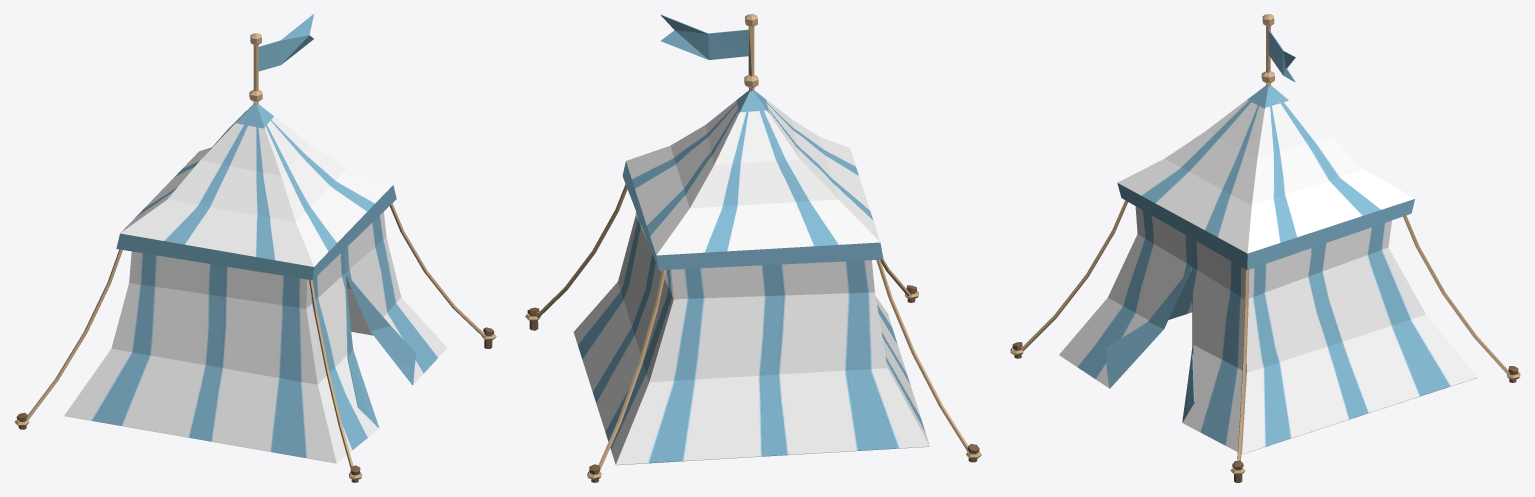
The model's file is carpita celeste.fbx.
3 views of the same model, side by side, from view 1: azimuth 30°, elevation 25°; view 2: azimuth 150°, elevation 25°; view 3: azimuth 270°, elevation 25° (orthographic). The views are drawn at different scales.
Parts seen in each view (by area): view 1: tent_green; view 2: tent_green; view 3: tent_green.
Part boxes in pixels (x1,y1,x2,y2): tent_green: (14,14,496,482); tent_green: (525,14,981,482); tent_green: (1010,14,1520,482).
Size of the model in its own units: 703 by 531 by 683.
1 material, 1 textured.
